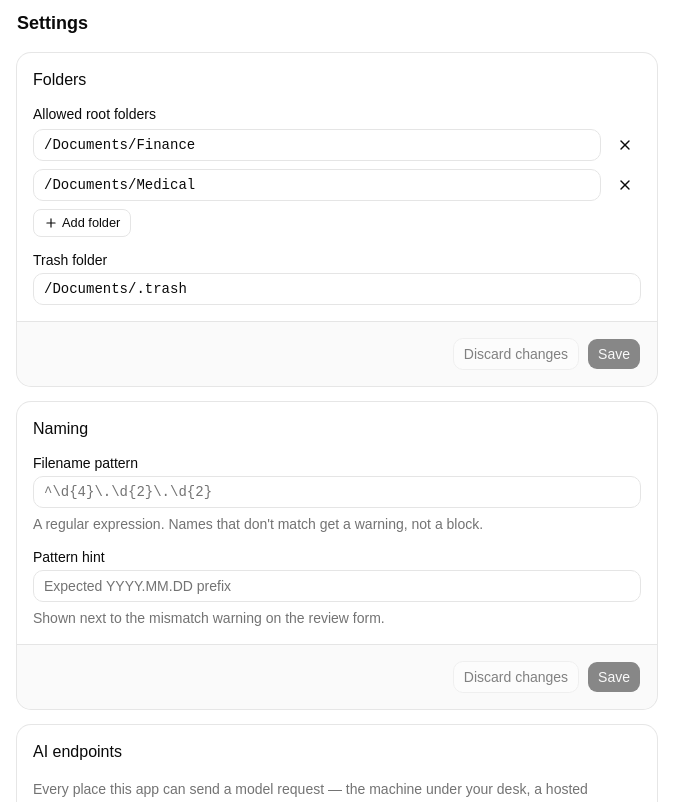
SettingsPage › saves Folders and clears dirty state so Save disables again
Replace the text in the field named "Allowed root folder 1" with "/Documents/Legal" at (317, 145), box x1=33 y1=129 x2=601 y2=161
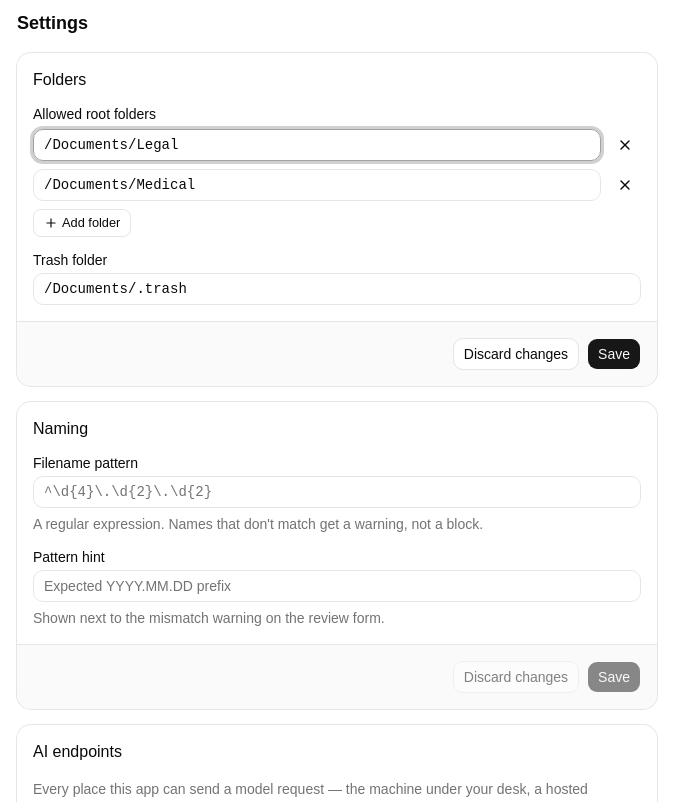
Expected: the 1st button "Save" is enabled
Click the 1st button "Save" at (614, 354), box x1=587 y1=338 x2=641 y2=370
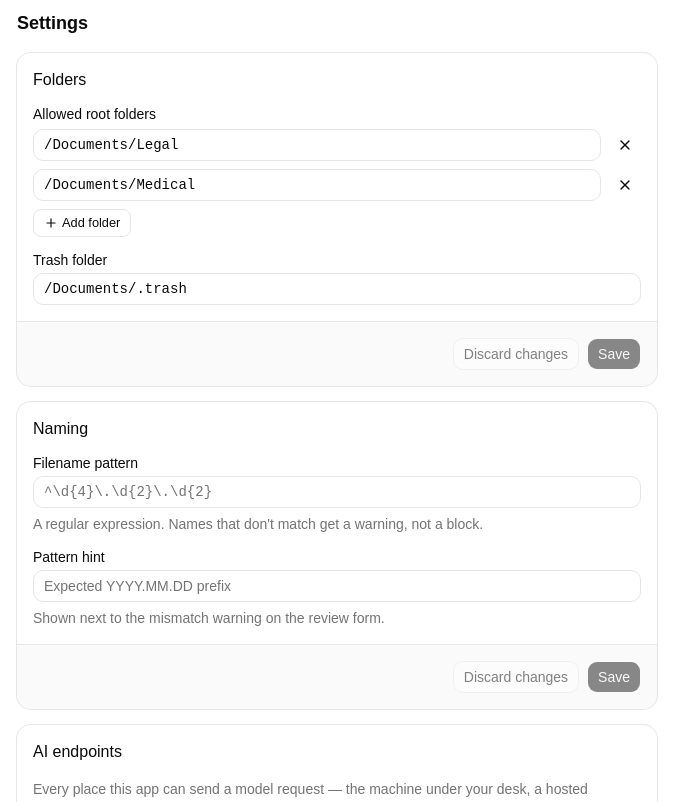
Expected: the 1st button "Save" is disabled, x1=587 y1=338 x2=641 y2=370
